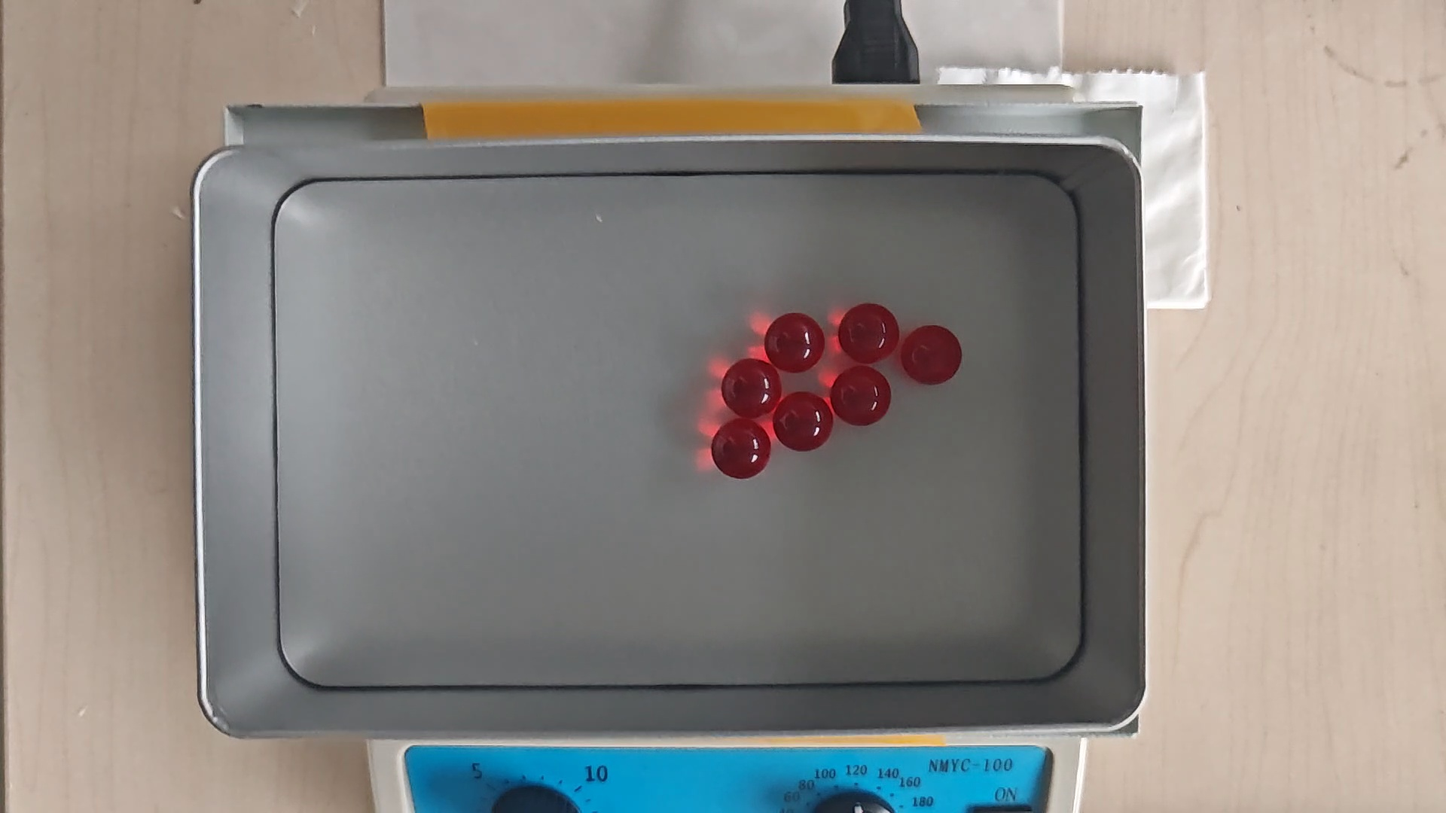ball: (901, 324, 963, 388), (837, 303, 900, 365), (764, 312, 826, 374), (832, 366, 892, 429), (721, 358, 781, 419), (775, 391, 834, 453), (712, 419, 770, 480)
container: (273, 178, 1083, 683)
